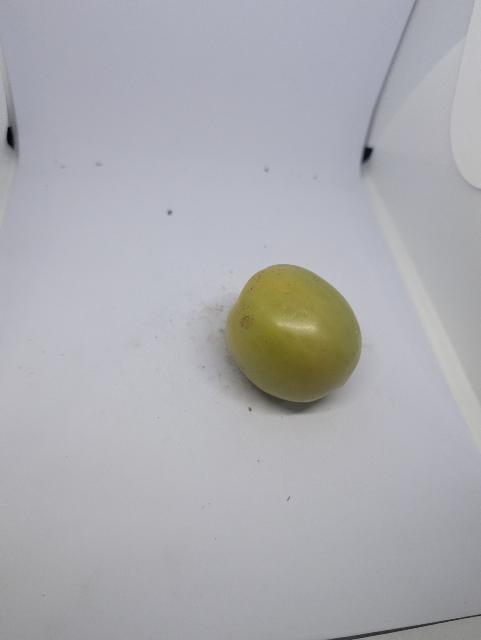breaker: (225, 264, 362, 402)
